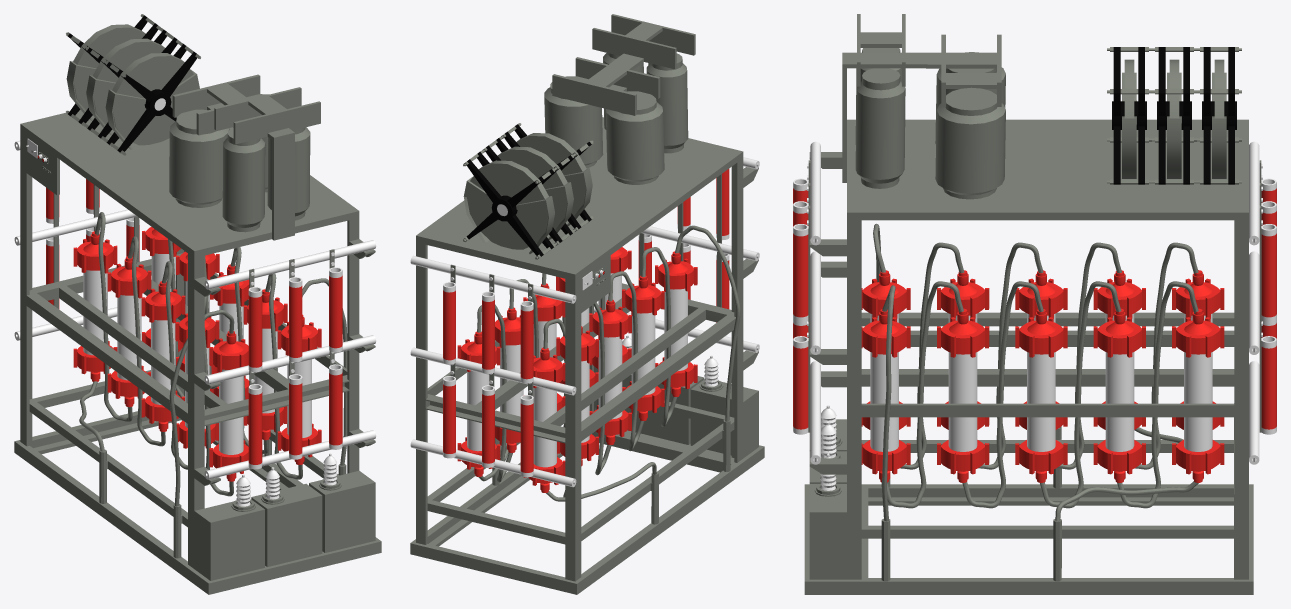
File: heat_exchanger.glb
The picture shows the model from 3 angles, left to right: view 1: azimuth 30°, elevation 25°; view 2: azimuth 150°, elevation 25°; view 3: azimuth 270°, elevation 25°; orthographic projection. The views are drawn at different scales.
Visible parts, largest first — view 1: SM_HeatExch_shelf_0, SM_HeatExch_propan3_9, SM_HeatExch_disk_12, SM_HeatExch_red_pipes_5, SM_HeatExch_cords_13, SM_HeatExch_white_pipes_4, SM_HeatExch_propan1_10, SM_HeatExch_propan2_11; view 2: SM_HeatExch_shelf_0, SM_HeatExch_propan3_9, SM_HeatExch_disk_12, SM_HeatExch_red_pipes_5, SM_HeatExch_propan2_11, SM_HeatExch_cords_13, SM_HeatExch_white_pipes_4, SM_HeatExch_propan1_10; view 3: SM_HeatExch_shelf_0, SM_HeatExch_propan3_9, SM_HeatExch_cords_13, SM_HeatExch_disk_12, SM_HeatExch_red_pipes_5, SM_HeatExch_propan2_11, SM_HeatExch_white_pipes_4, SM_HeatExch_propan1_10.
Boxes of the visible parts, x1=… form: SM_HeatExch_shelf_0: x1=14, y1=74, x2=381, y2=594; SM_HeatExch_propan3_9: x1=73, y1=227, x2=321, y2=481; SM_HeatExch_disk_12: x1=66, y1=14, x2=200, y2=155; SM_HeatExch_red_pipes_5: x1=46, y1=179, x2=342, y2=469; SM_HeatExch_cords_13: x1=79, y1=212, x2=347, y2=506; SM_HeatExch_white_pipes_4: x1=14, y1=141, x2=376, y2=479; SM_HeatExch_propan1_10: x1=222, y1=127, x2=310, y2=232; SM_HeatExch_propan2_11: x1=169, y1=94, x2=268, y2=207; SM_HeatExch_shelf_0: x1=410, y1=14, x2=764, y2=594; SM_HeatExch_propan3_9: x1=457, y1=247, x2=697, y2=492; SM_HeatExch_disk_12: x1=463, y1=123, x2=593, y2=259; SM_HeatExch_red_pipes_5: x1=443, y1=169, x2=729, y2=477; SM_HeatExch_propan2_11: x1=544, y1=76, x2=664, y2=184; SM_HeatExch_cords_13: x1=477, y1=225, x2=740, y2=501; SM_HeatExch_white_pipes_4: x1=410, y1=157, x2=759, y2=487; SM_HeatExch_propan1_10: x1=603, y1=53, x2=688, y2=153; SM_HeatExch_shelf_0: x1=804, y1=14, x2=1253, y2=594; SM_HeatExch_propan3_9: x1=861, y1=270, x2=1224, y2=482; SM_HeatExch_cords_13: x1=873, y1=223, x2=1198, y2=521; SM_HeatExch_disk_12: x1=1107, y1=47, x2=1241, y2=184; SM_HeatExch_red_pipes_5: x1=793, y1=160, x2=1276, y2=434; SM_HeatExch_propan2_11: x1=935, y1=52, x2=1005, y2=199; SM_HeatExch_white_pipes_4: x1=810, y1=141, x2=1259, y2=464; SM_HeatExch_propan1_10: x1=855, y1=48, x2=905, y2=188.
Bounding box in the file's own units: 1.39 × 3.22 × 2.76.
